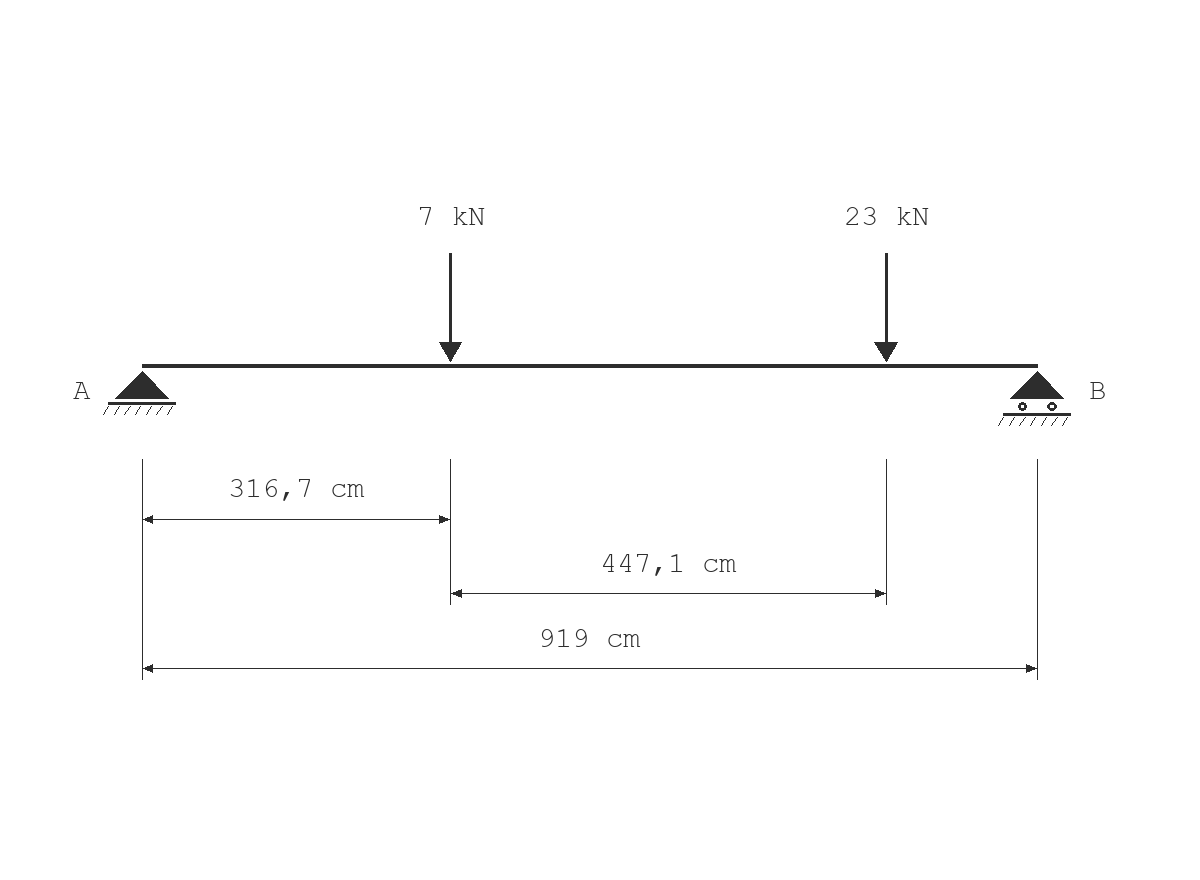pin_support: (103, 371, 176, 415)
point_load: (874, 253, 898, 362), (439, 253, 462, 362)
roller_support: (998, 371, 1071, 426)
